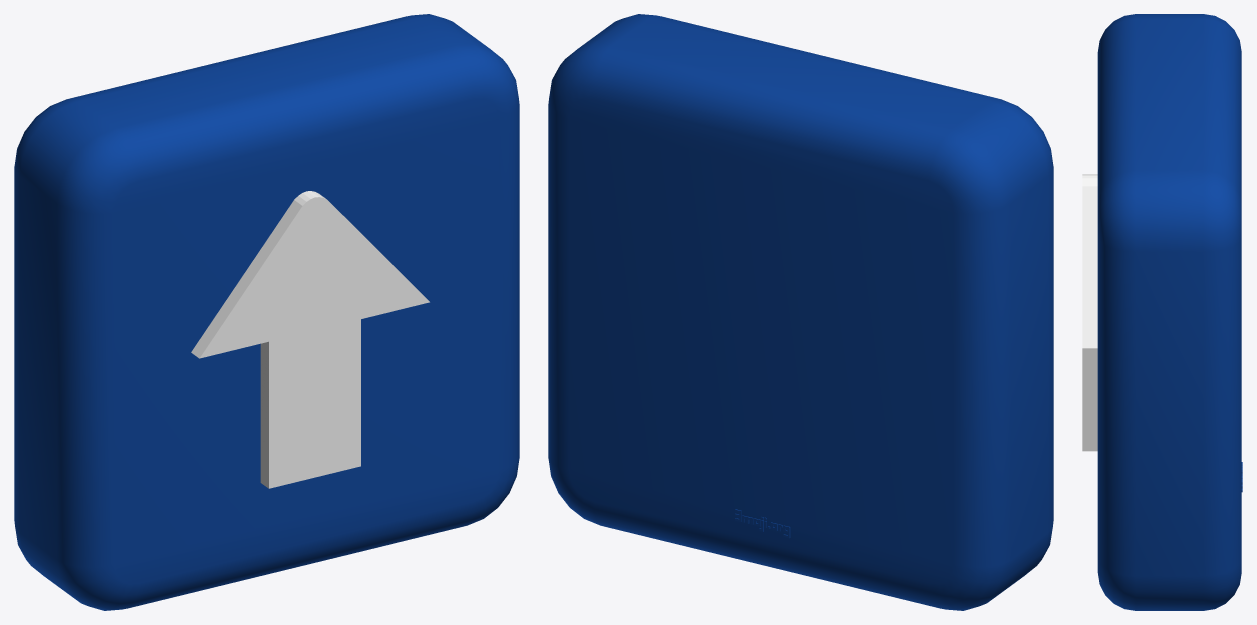
Rendered from up_arrow.glb.
The picture shows the model from 3 angles, left to right: view 1: azimuth 30°, elevation 25°; view 2: azimuth 150°, elevation 25°; view 3: azimuth 270°, elevation 25°; orthographic projection. The views are drawn at different scales.
Parts seen in each view (by area): view 1: Cube.962; view 2: Cube.962; view 3: Cube.962.
Boxes of the visible parts, <box> form: Cube.962: <box>14,14,519,610</box>; Cube.962: <box>548,14,1053,610</box>; Cube.962: <box>1082,14,1242,610</box>.
Size of the model in its own units: 2.2 by 2.2 by 0.7337.
Materials: 1 (1 with a texture image).
